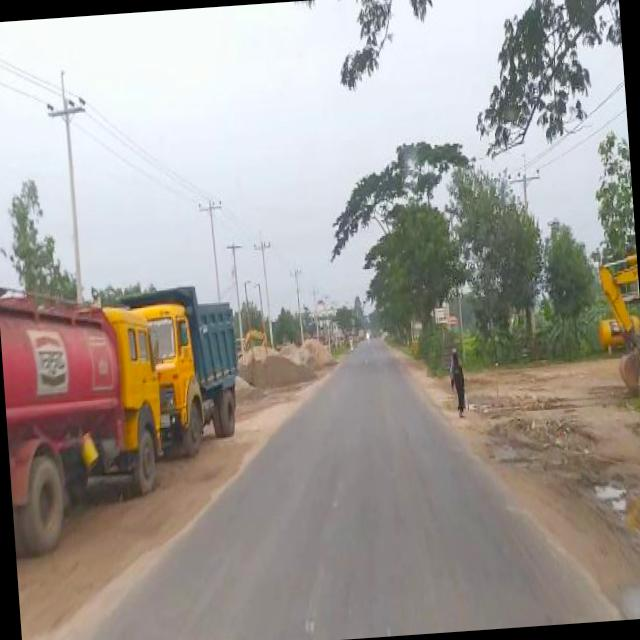truck: (0, 269, 170, 555), (148, 282, 251, 459)
